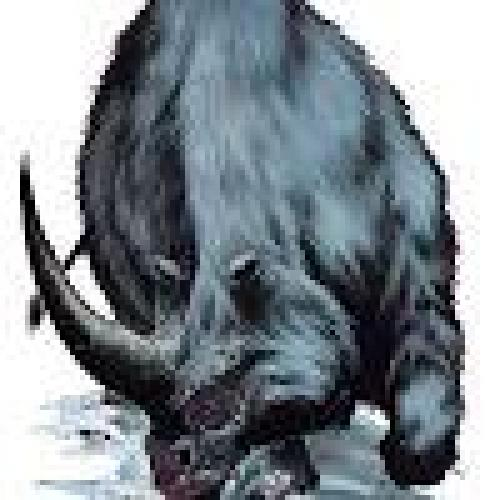rhino-endangered: (21, 0, 468, 500)
